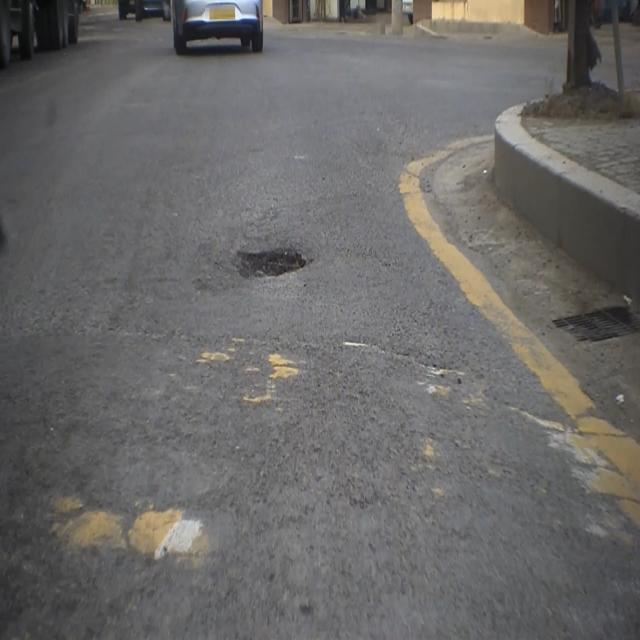Pothole: (227, 231, 315, 300)
